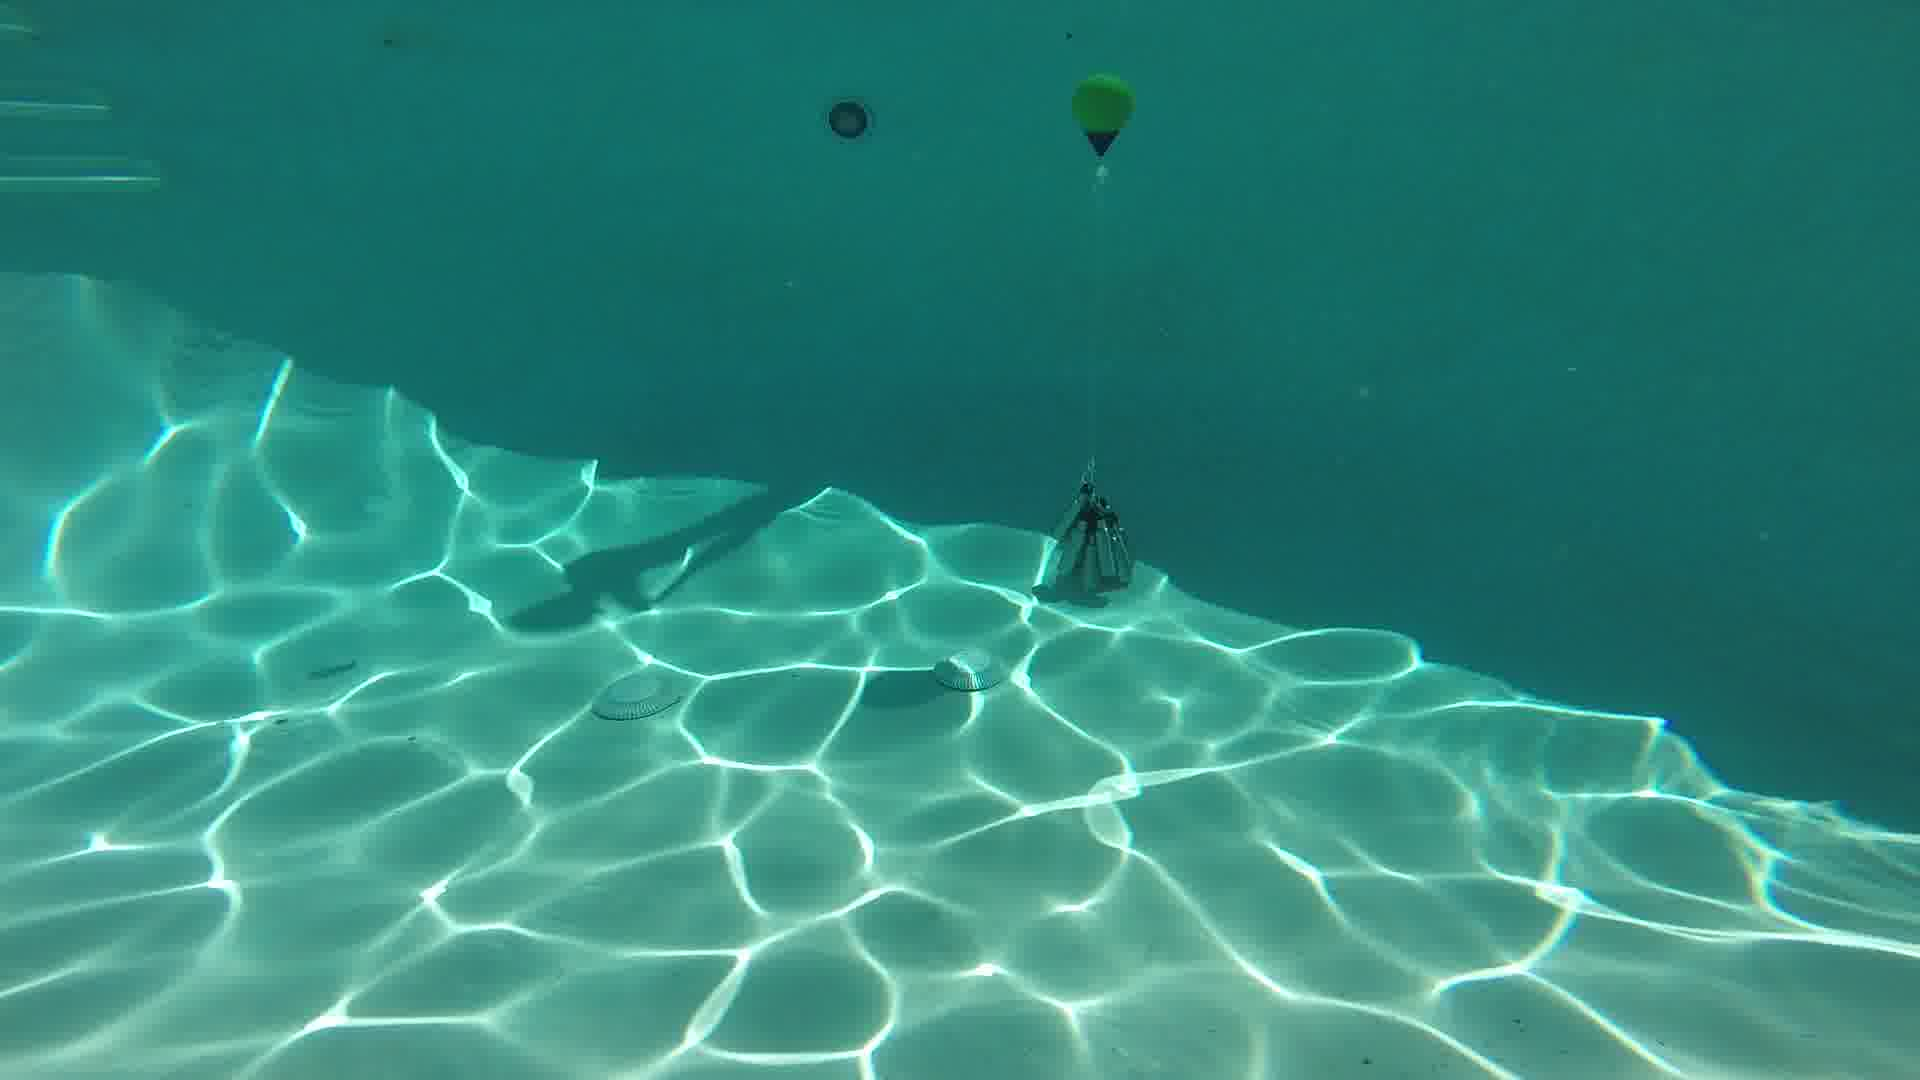yellow_buoy: (1073, 73, 1133, 157)
